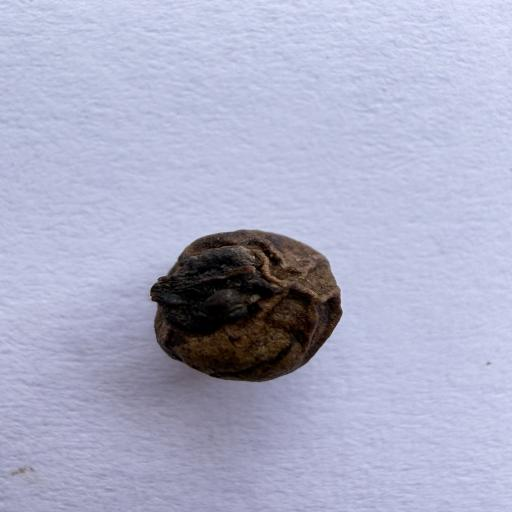Black_pepper: (81, 185, 448, 410)
